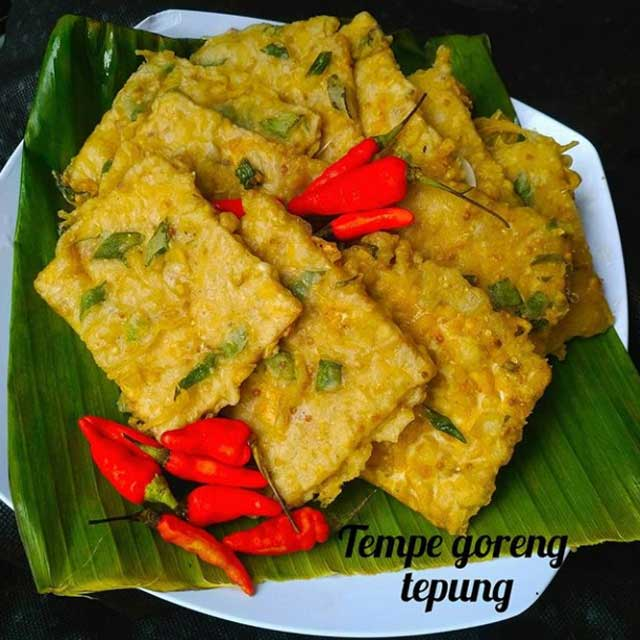Tempe: (29, 172, 290, 433), (209, 248, 430, 469), (342, 309, 554, 521), (424, 181, 568, 325), (245, 19, 360, 134)
